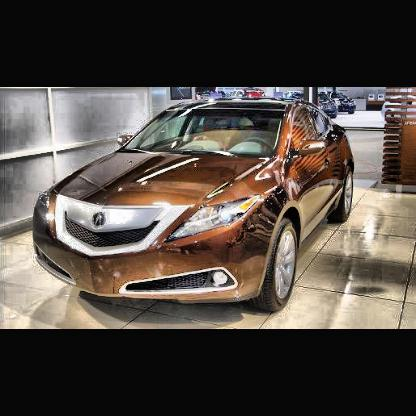Acura ZDX Hatchback 2012: (35, 100, 357, 314)
